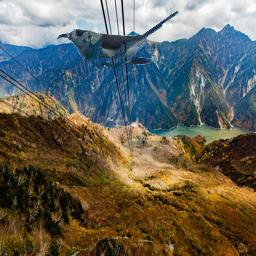Cuckoo: (57, 9, 183, 72)
